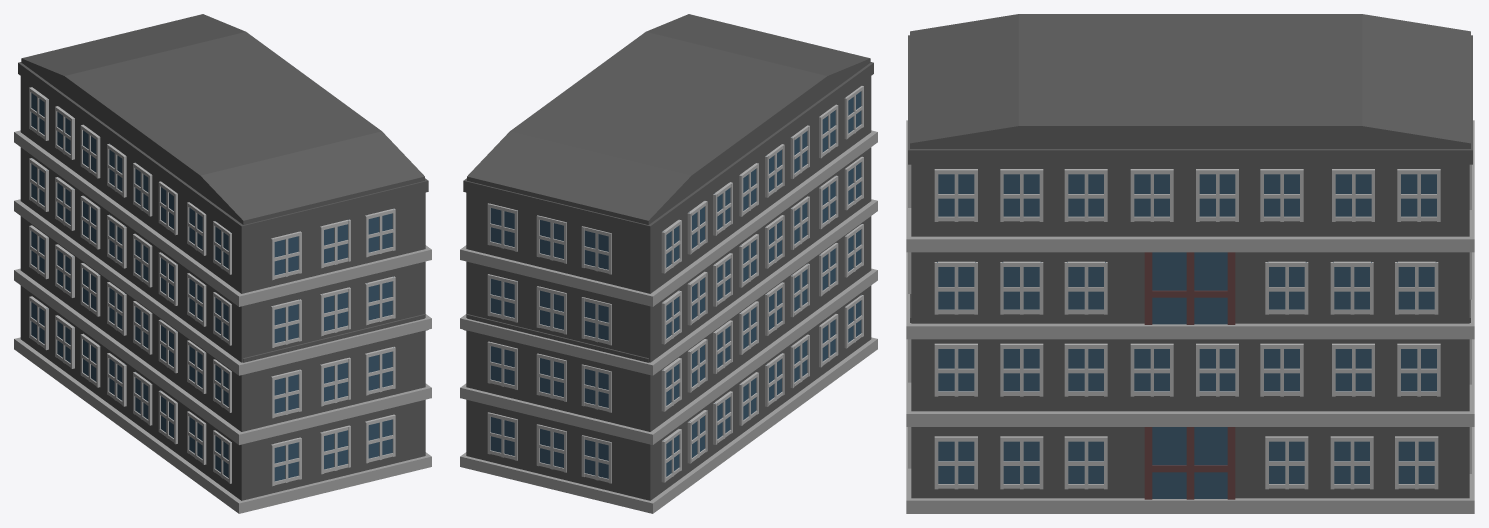
Rendered from building_town.fbx.
3 renders of one model, left to right at view 1: azimuth 30°, elevation 25°; view 2: azimuth 150°, elevation 25°; view 3: azimuth 270°, elevation 25°, orthographic. The views are drawn at different scales.
Visible parts, largest first — view 1: pCube704; view 2: pCube704; view 3: pCube704.
Boxes of the visible parts, box(x1,y1,x2,y2) form: pCube704: box(14, 14, 431, 513); pCube704: box(460, 14, 877, 513); pCube704: box(906, 14, 1474, 513).
Bounding box in the file's own units: 124830 × 188904 × 252330.
